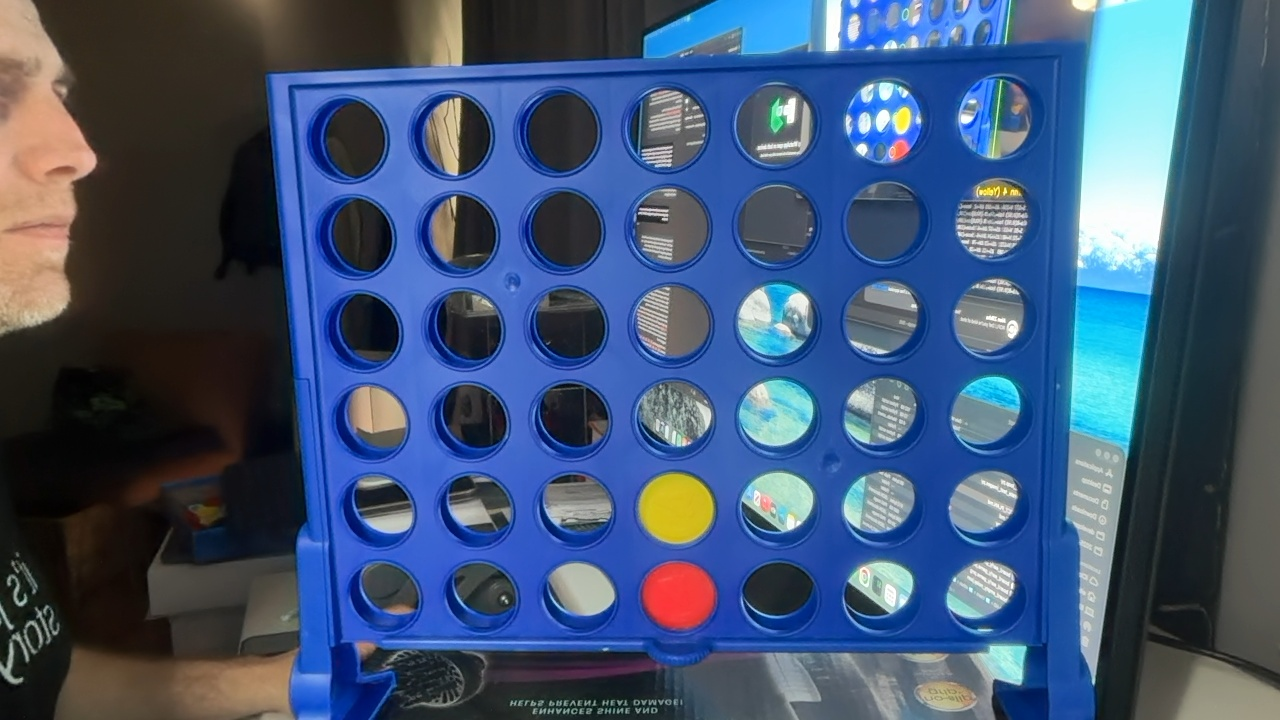red piece: (642, 561, 716, 631)
yellow piece: (638, 472, 714, 544)
